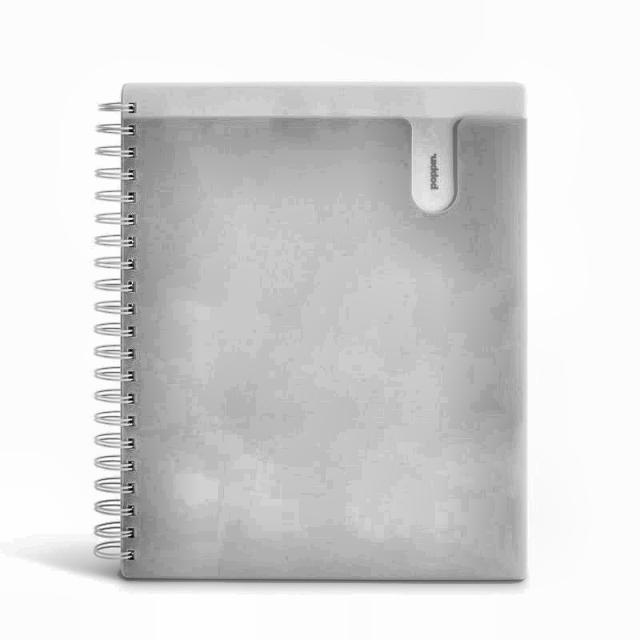Notebook: (61, 55, 548, 607)
